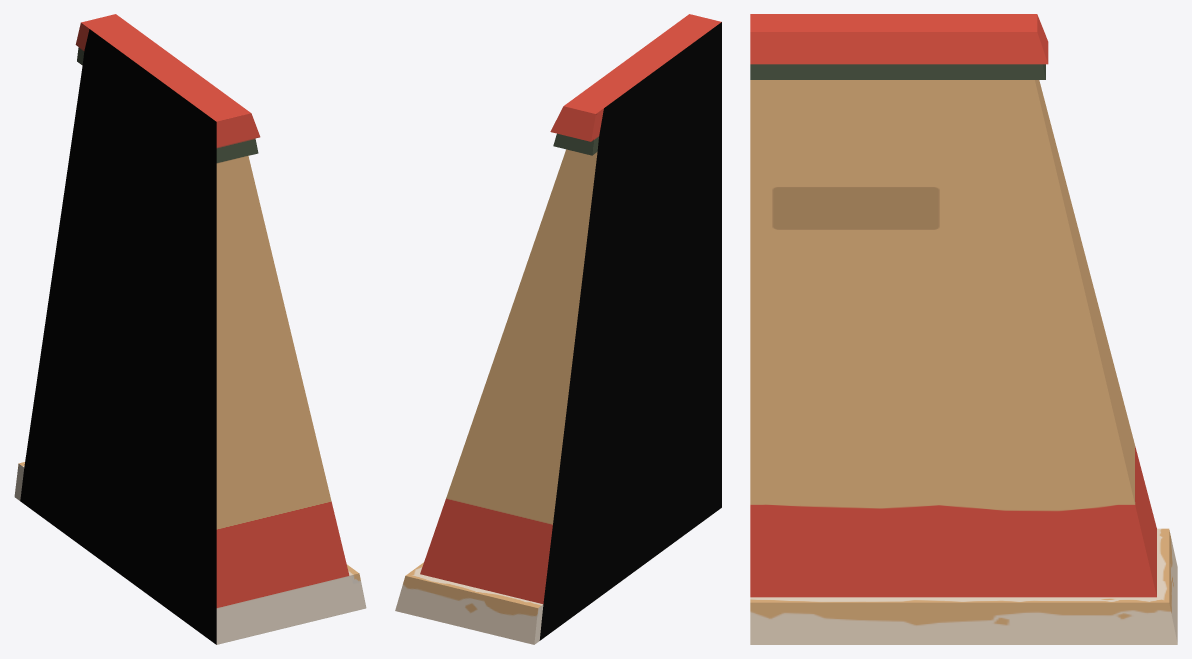
File: wallEndL.fbx
3 views of the same model, side by side, from view 1: azimuth 30°, elevation 25°; view 2: azimuth 150°, elevation 25°; view 3: azimuth 270°, elevation 25° (orthographic). The views are drawn at different scales.
Visible parts, largest first — view 1: WallEndLeft; view 2: WallEndLeft; view 3: WallEndLeft.
Part boxes in pixels (x1,y1,x2,y2): WallEndLeft: [14, 14, 366, 644]; WallEndLeft: [395, 14, 721, 644]; WallEndLeft: [750, 14, 1177, 644].
Bounding box in the file's own units: 1.5 × 5 × 3.5.
